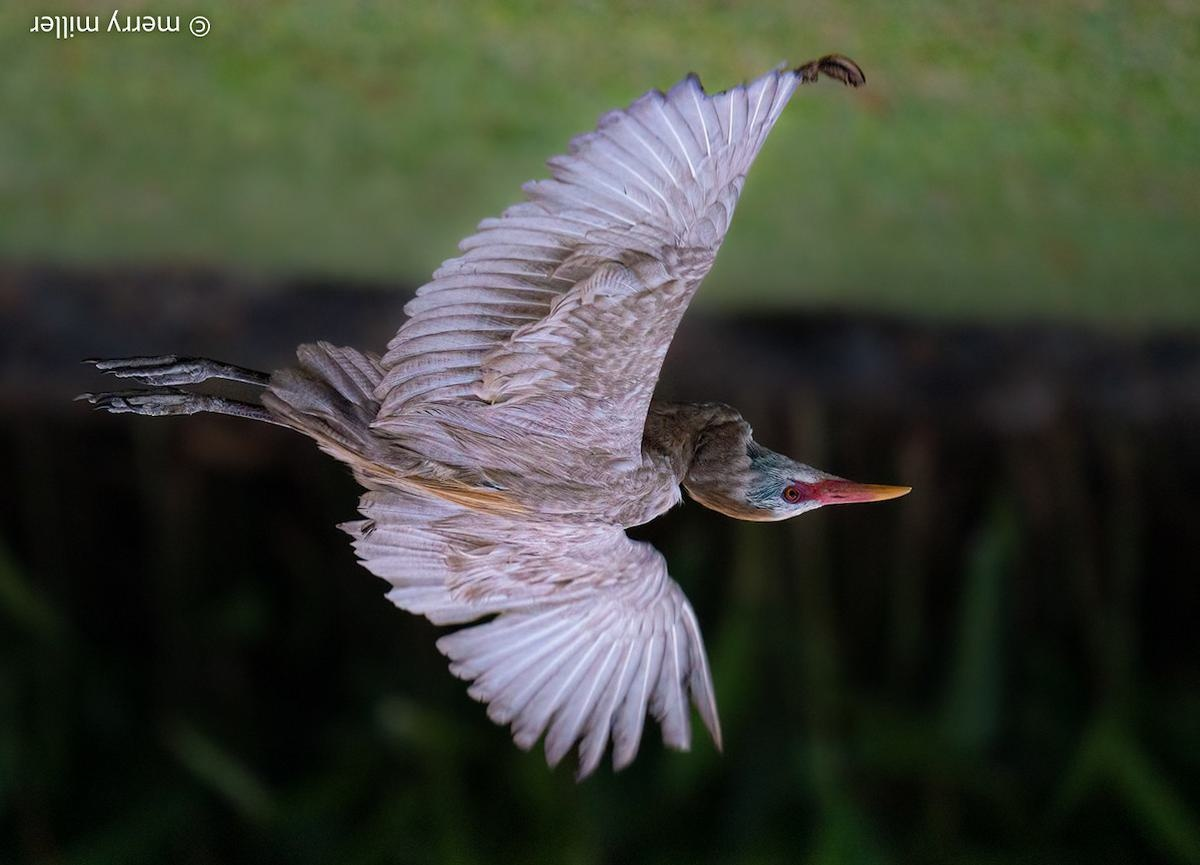egret: (36, 44, 914, 775)
